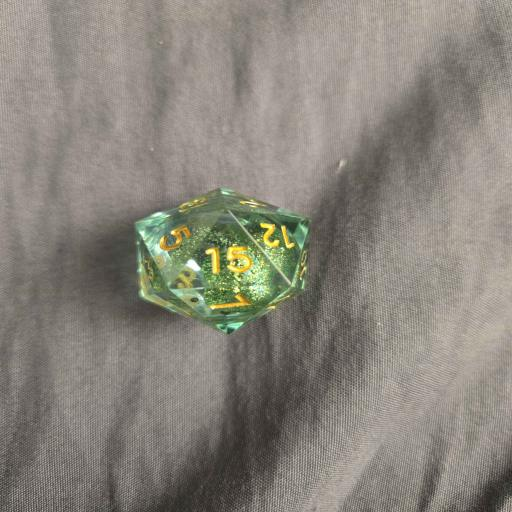twenty sided dice: (134, 188, 311, 334)
